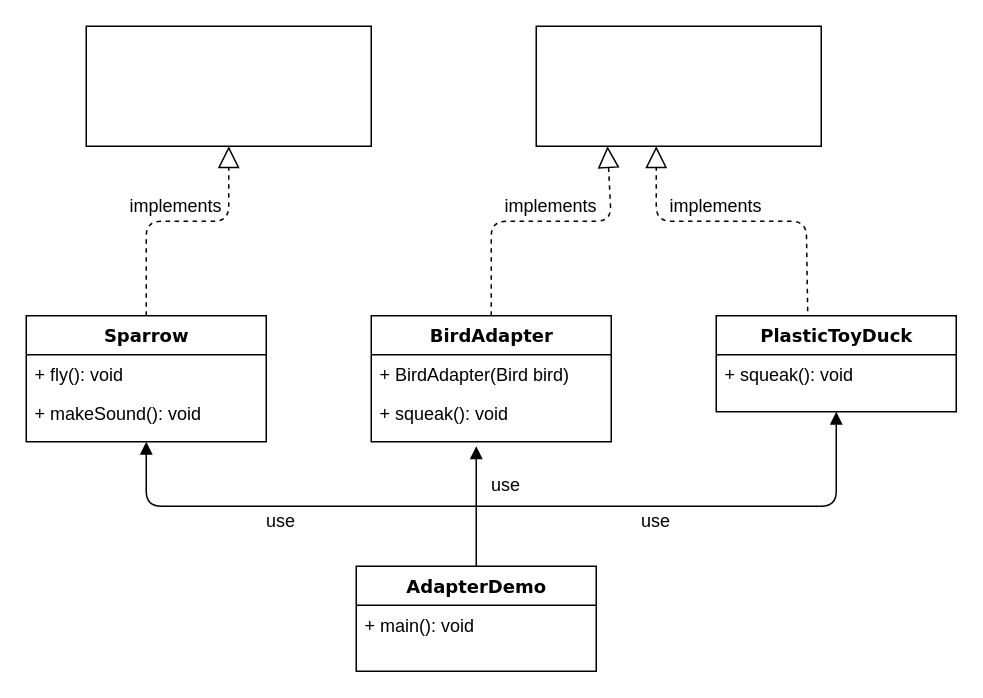
The diagram is 983 pixels wide and 698 high, and some of its shapes have lost their labels. The centre of each missing label's shape, as x and y in pixels:
<<Interface>> Bird + fly(): void + makeSound(): void: the point at 228,85
<<Interface>> ToyDuck + squeak(): void: the point at 678,85
